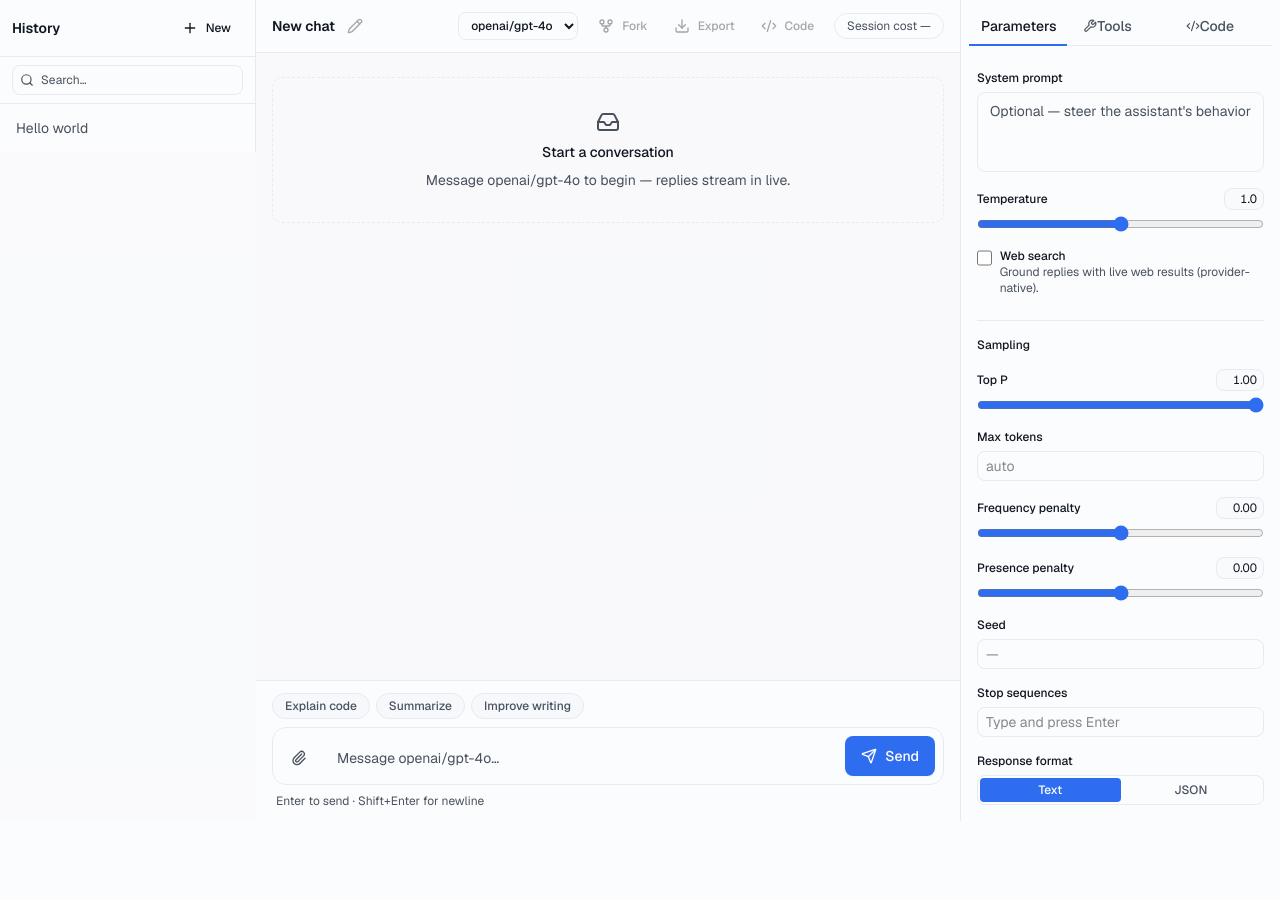
Test case: ChatWorkspace — conversation persistence › first_turn_creates_and_persists_user_and_assistant
Type "Hello world" into the text box labelled "Message openai/gpt-4o…" at (581, 758), box [325, 740, 837, 776]
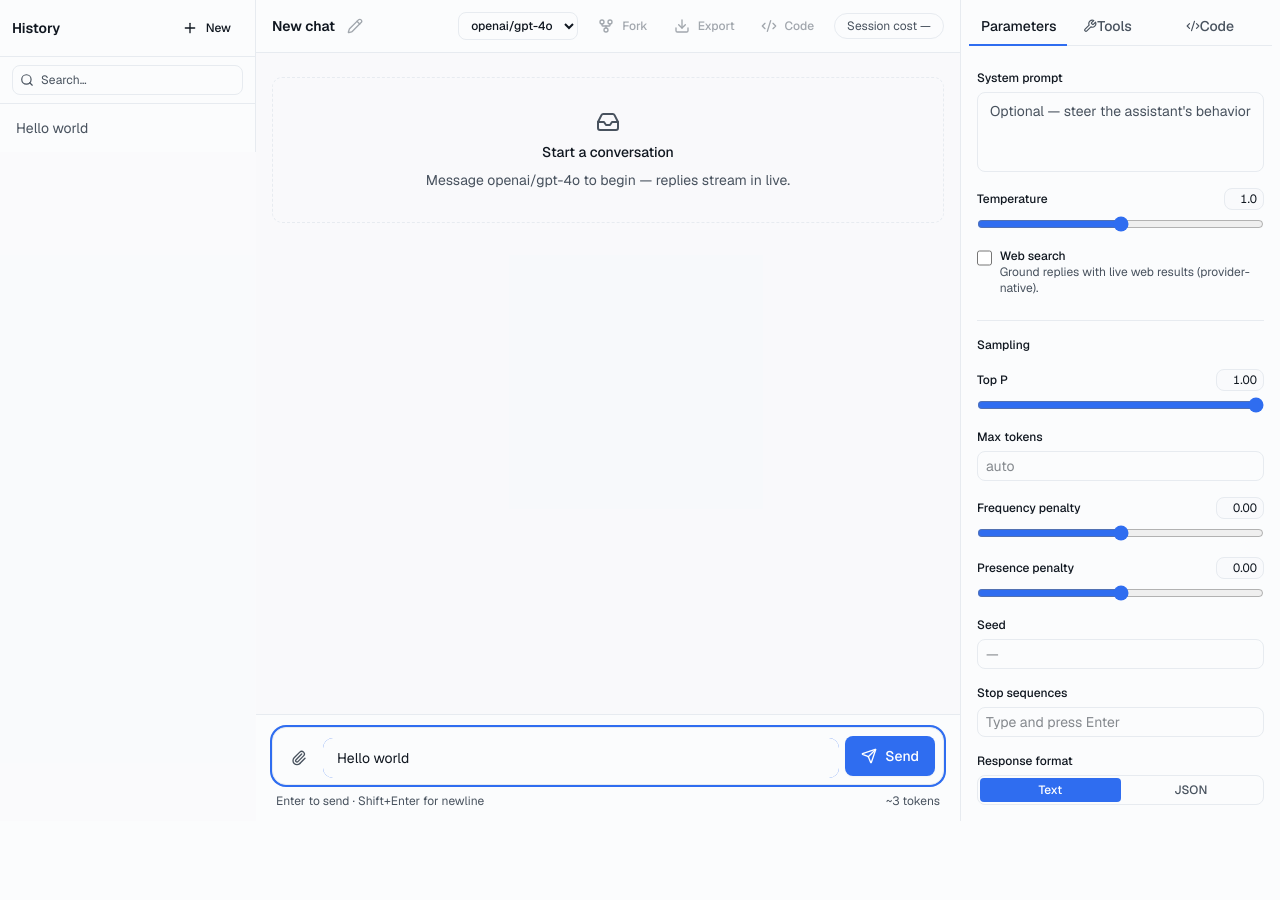
Click the button "Send" at (890, 756), box [845, 736, 935, 776]
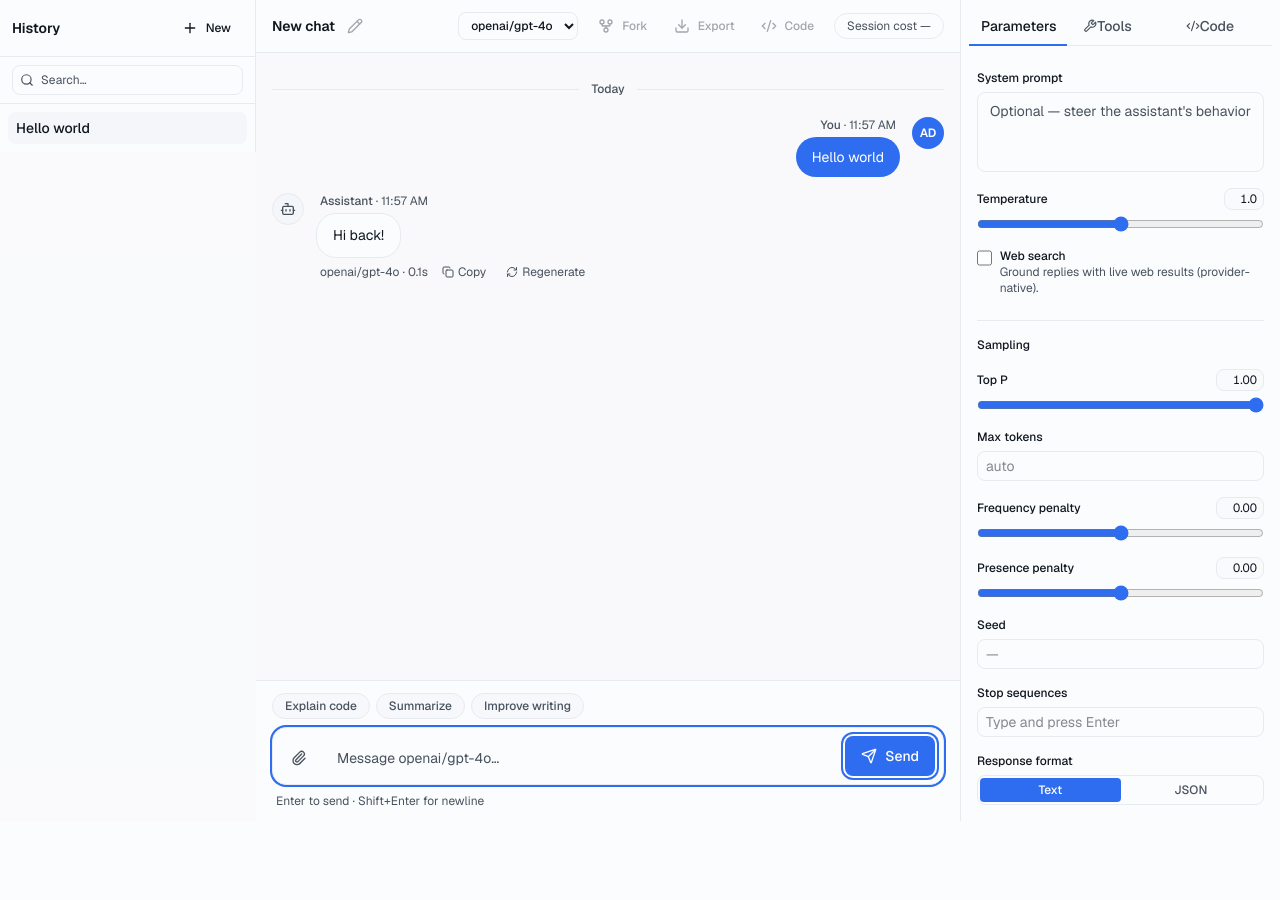
Expected: the button "Hello world" is shown, [8, 112, 155, 144]
Expected: the text "Hi back!" is shown, [333, 224, 384, 247]
